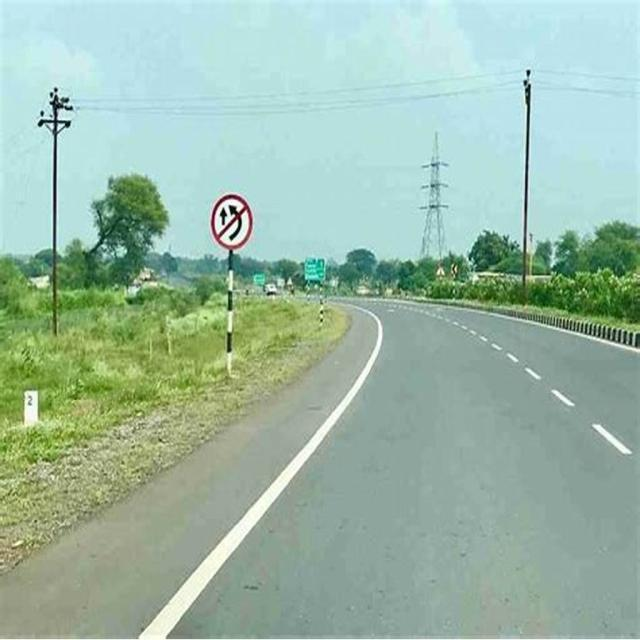overtaking prohibited: (210, 192, 253, 252)
